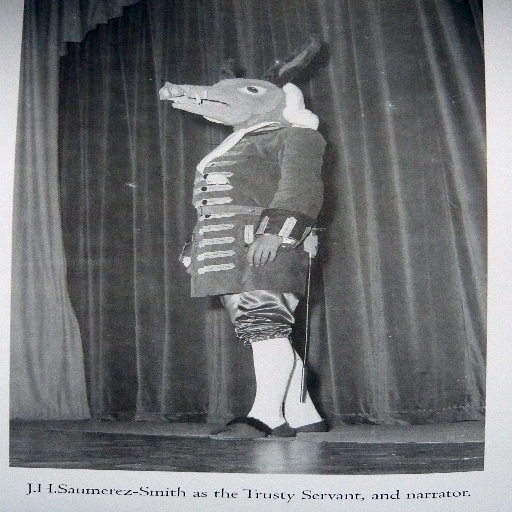hand: (242, 221, 302, 261)
